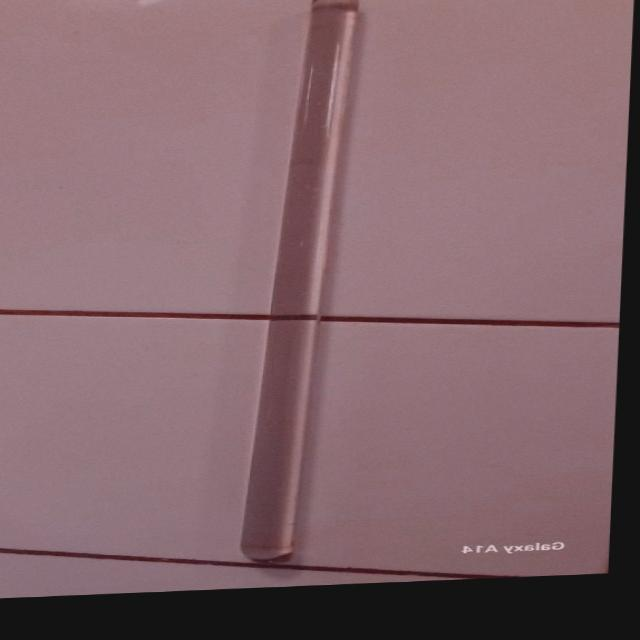Stirrer: (240, 0, 369, 575)
